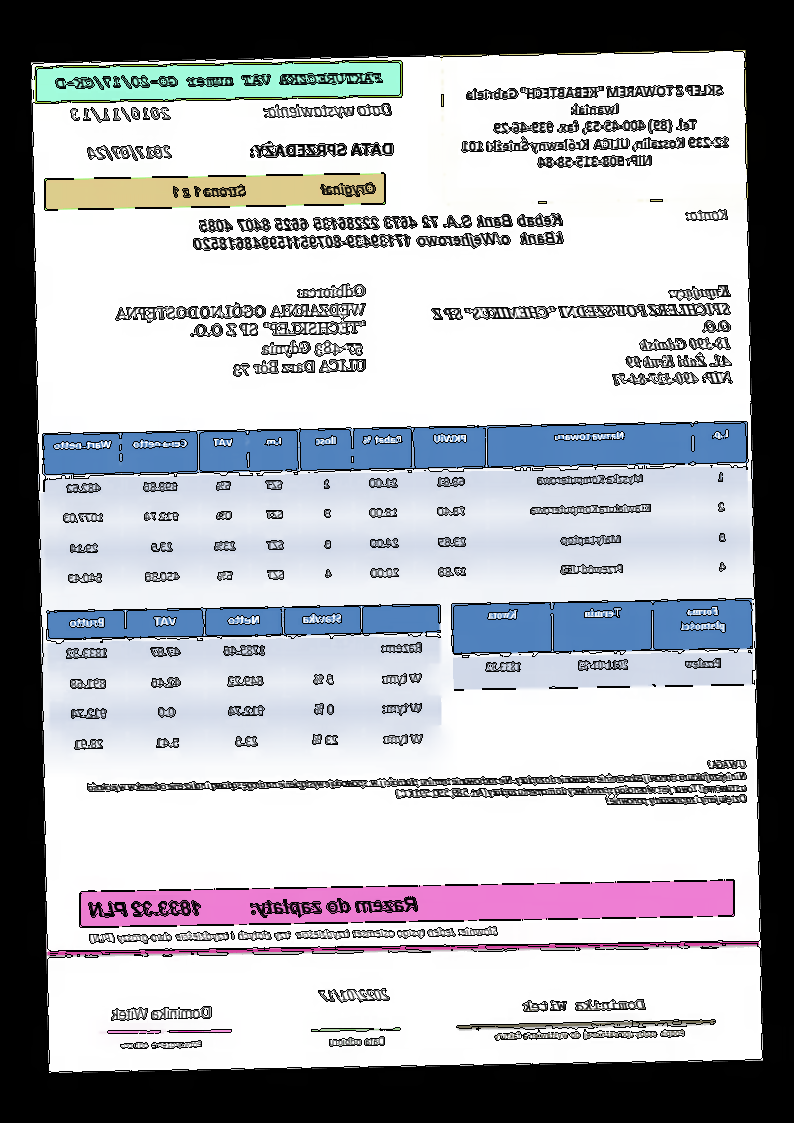Table: (41, 417, 753, 599), (46, 603, 445, 763), (453, 597, 755, 691)
TextBox: (86, 756, 751, 818), (428, 282, 734, 394), (111, 278, 370, 385), (456, 77, 731, 175), (190, 208, 567, 257), (85, 892, 423, 922), (85, 922, 501, 945), (49, 68, 387, 91), (170, 179, 380, 203), (492, 1026, 688, 1044), (247, 137, 396, 160), (262, 98, 394, 121), (519, 996, 650, 1015), (107, 1002, 214, 1023), (69, 102, 171, 123), (87, 141, 175, 164), (313, 982, 391, 1006), (119, 1036, 204, 1055), (681, 203, 732, 227), (327, 1034, 390, 1050)
